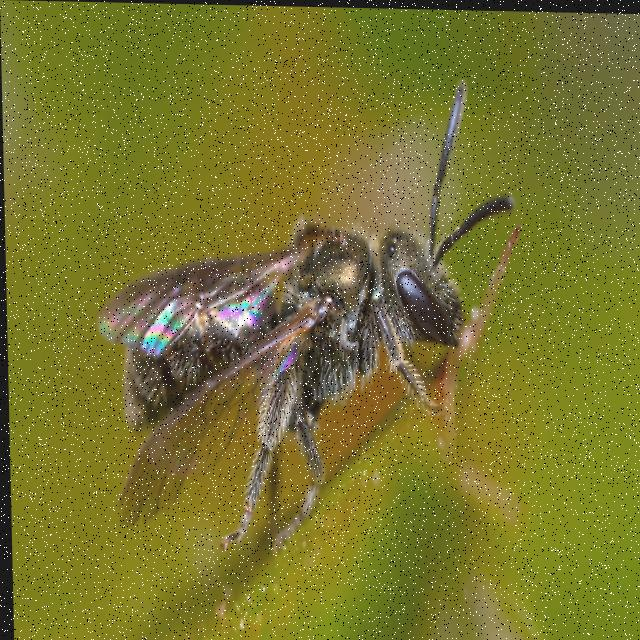Lasioglossum: (93, 62, 527, 559)
